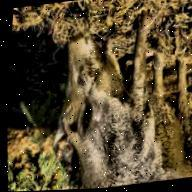boar: (23, 0, 192, 191)
